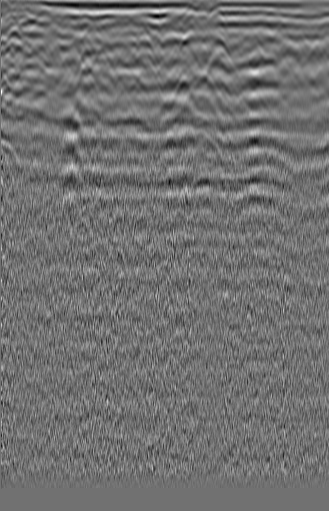가스: (187, 174, 223, 205)
상수: (274, 36, 303, 70)
오수: (4, 25, 30, 57)
우수: (157, 31, 196, 62)
